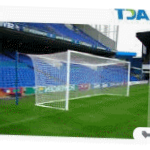goals: (31, 48, 133, 111)
